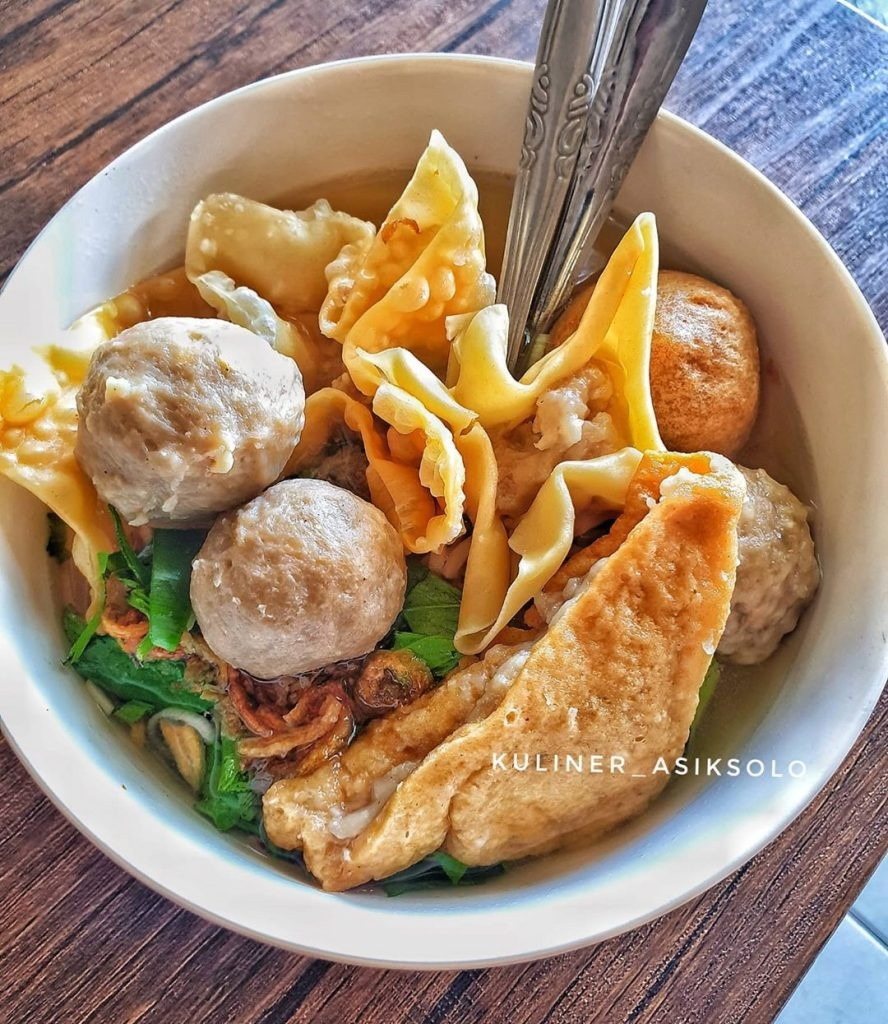bakso_malang: (51, 157, 823, 899)
